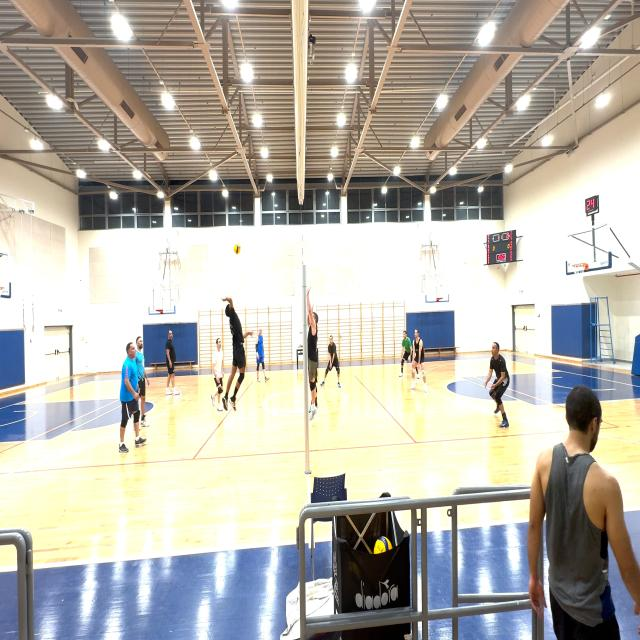volleyball: (373, 536, 392, 555), (233, 243, 240, 254)
